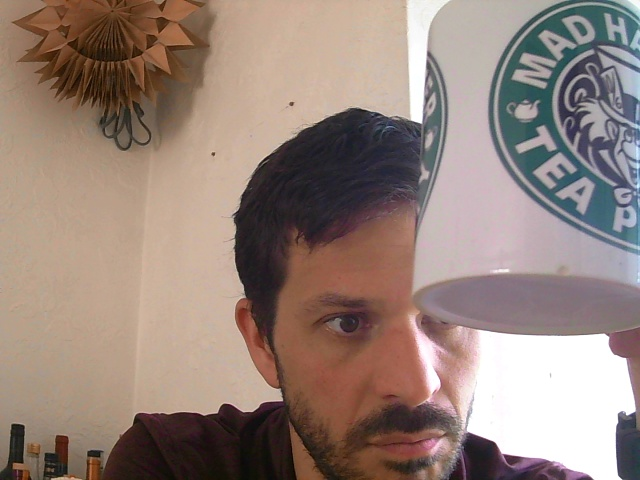mug: (410, 1, 640, 336)
